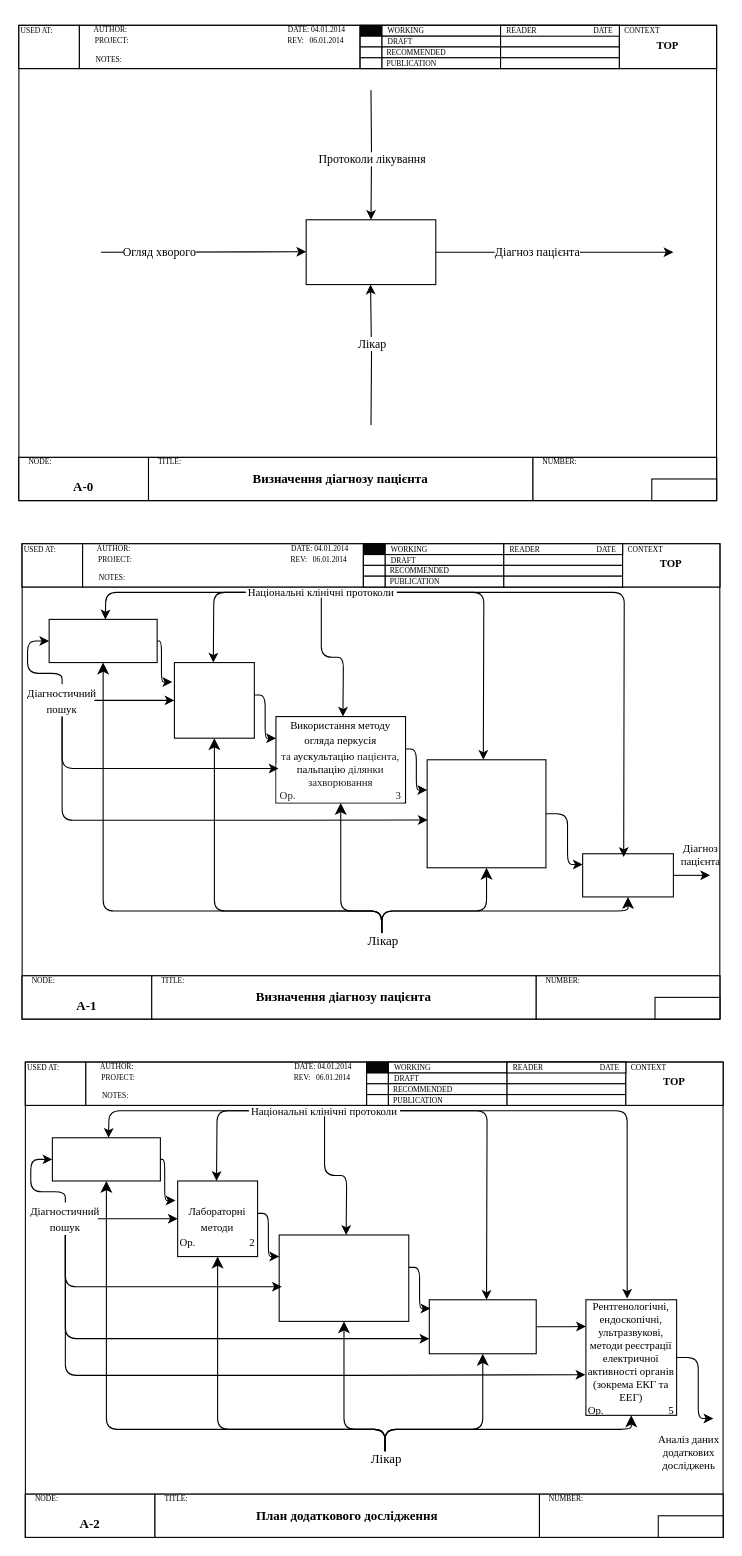
This 742x1556 diagram has some shape labels left out. Here are the shapes that lost their labels. From the top down, the centre of each, then its label:
point 370,252: Визначення діагнозу пацієнта A0
point 102,640: Розпитування (Анамнез) Ор. 1
point 213,700: Фізикальне обстеження зі збору анамнезу захворювання Ор. 2
point 486,813: План додаткового дослідження: Лабораторні методи, Інструментальні методи Ор. 4
point 627,875: Визначення діагнозу пацієнта Ор. 5
point 105,1159: План додаткового дослідження Ор. 1
point 343,1277: Аналіз крові, загальний аналіз сечі та аналіз калу Ор. 3
point 482,1326: Інструментальні методи Ор. 4
